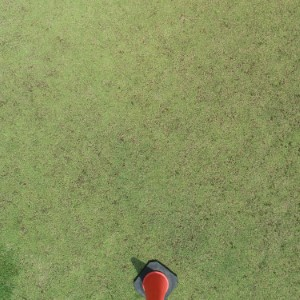traffic cone: (133, 259, 178, 300)
